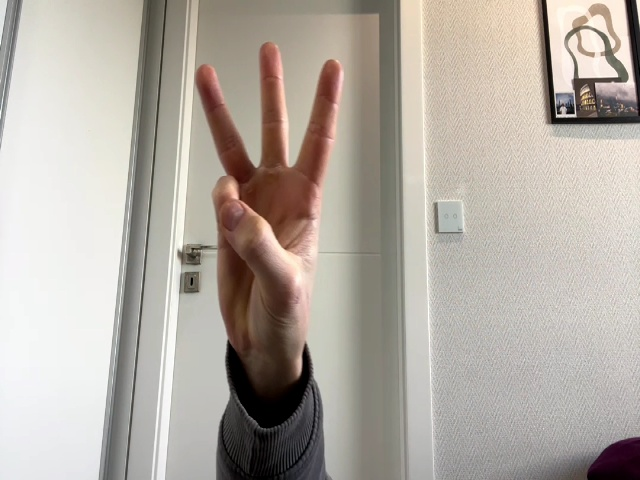W: (195, 41, 344, 359)
